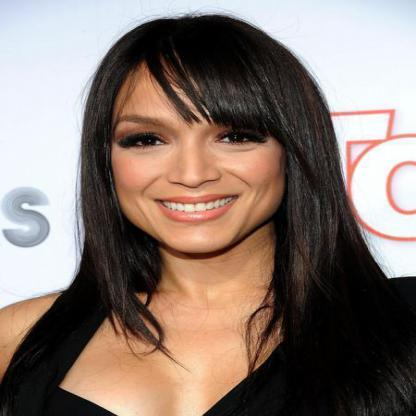long-hair: (50, 258, 388, 307)
